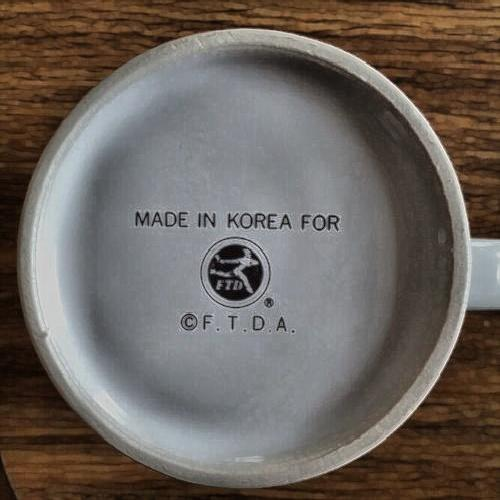mug: (32, 42, 471, 460)
